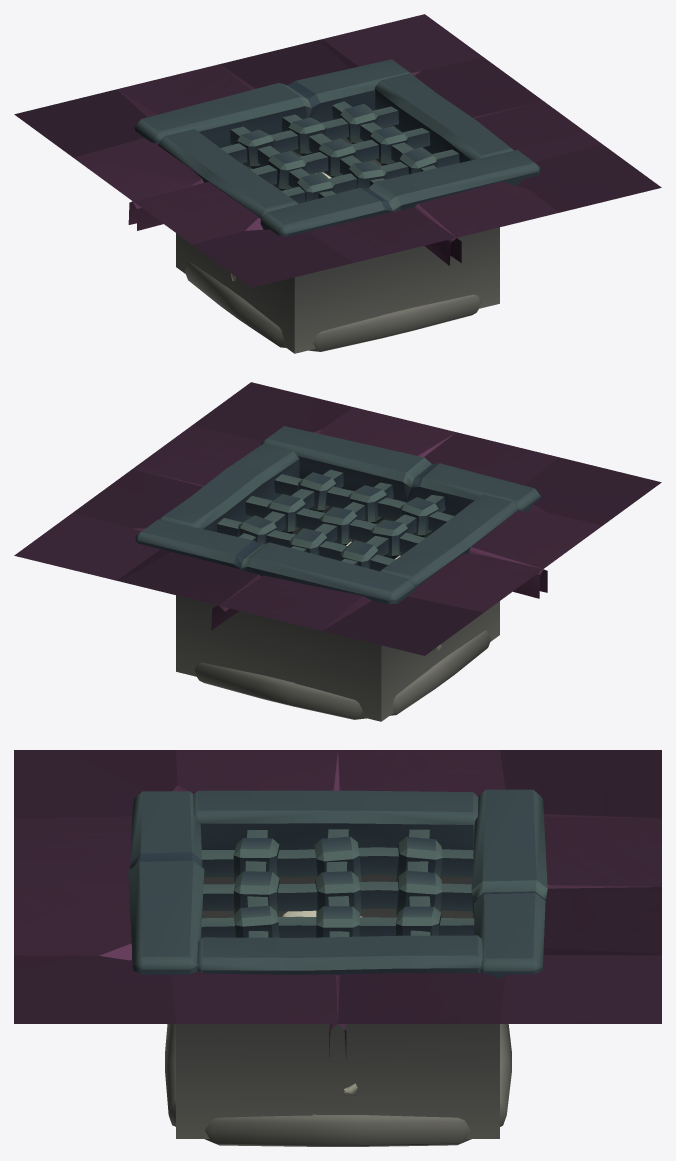
Rendered from floor_pit_alt.fbx.
3 views of the same model, one above another, from view 1: azimuth 30°, elevation 25°; view 2: azimuth 150°, elevation 25°; view 3: azimuth 270°, elevation 25° (orthographic). The views are drawn at different scales.
Visible parts, largest first — view 1: floor_pit_alt; view 2: floor_pit_alt; view 3: floor_pit_alt.
Boxes of the visible parts, x1,y1,x2,y2 form: floor_pit_alt: (14, 14, 661, 353); floor_pit_alt: (14, 382, 661, 721); floor_pit_alt: (14, 750, 661, 1146).
Bounding box in the file's own units: 400 × 141 × 400.
